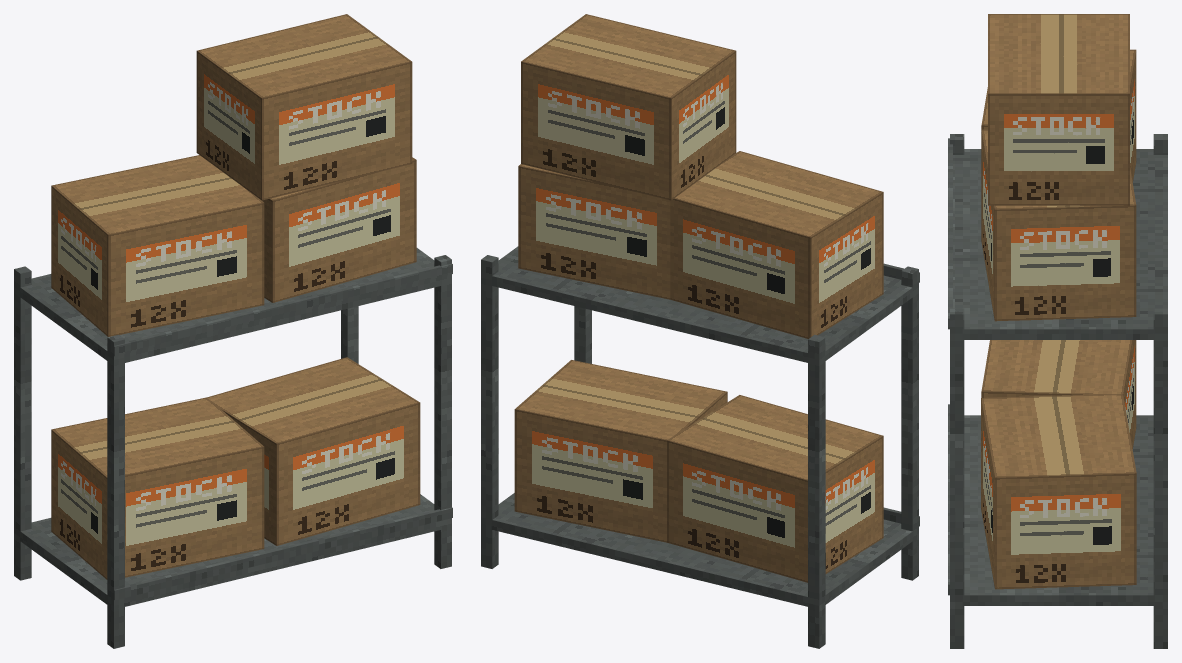
The model's file is pickup_stock_box.glb.
3 views of the same model, side by side, from view 1: azimuth 30°, elevation 25°; view 2: azimuth 150°, elevation 25°; view 3: azimuth 270°, elevation 25° (orthographic). The views are drawn at different scales.
Visible parts, largest first — view 1: Rack, Tool; view 2: Rack, Tool; view 3: Rack, Tool.
Part boxes in pixels (box(x1,y1,x2,y2)): Rack: box(14, 155, 452, 648); Tool: box(196, 14, 412, 200); Rack: box(481, 151, 919, 648); Tool: box(521, 14, 736, 200); Rack: box(948, 49, 1167, 648); Tool: box(988, 14, 1129, 205).
Size of the model in its own units: 0.9 by 1.26 by 0.464.
Materials: 2 (2 with a texture image).
